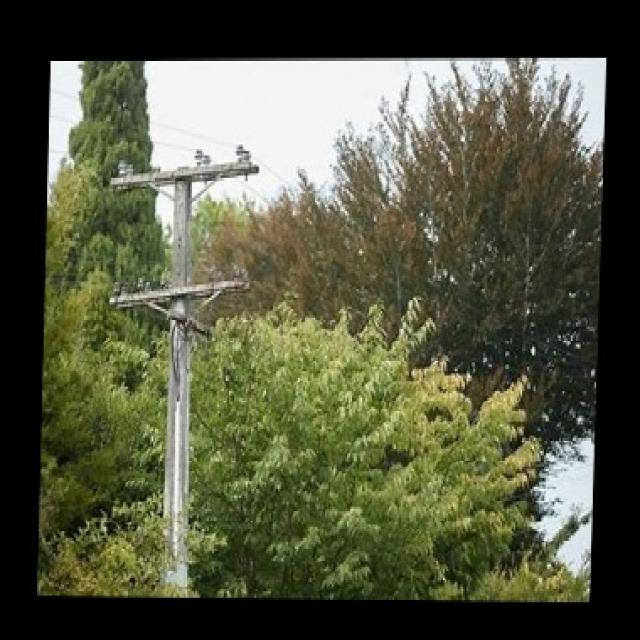utility poles: (95, 120, 253, 597)
